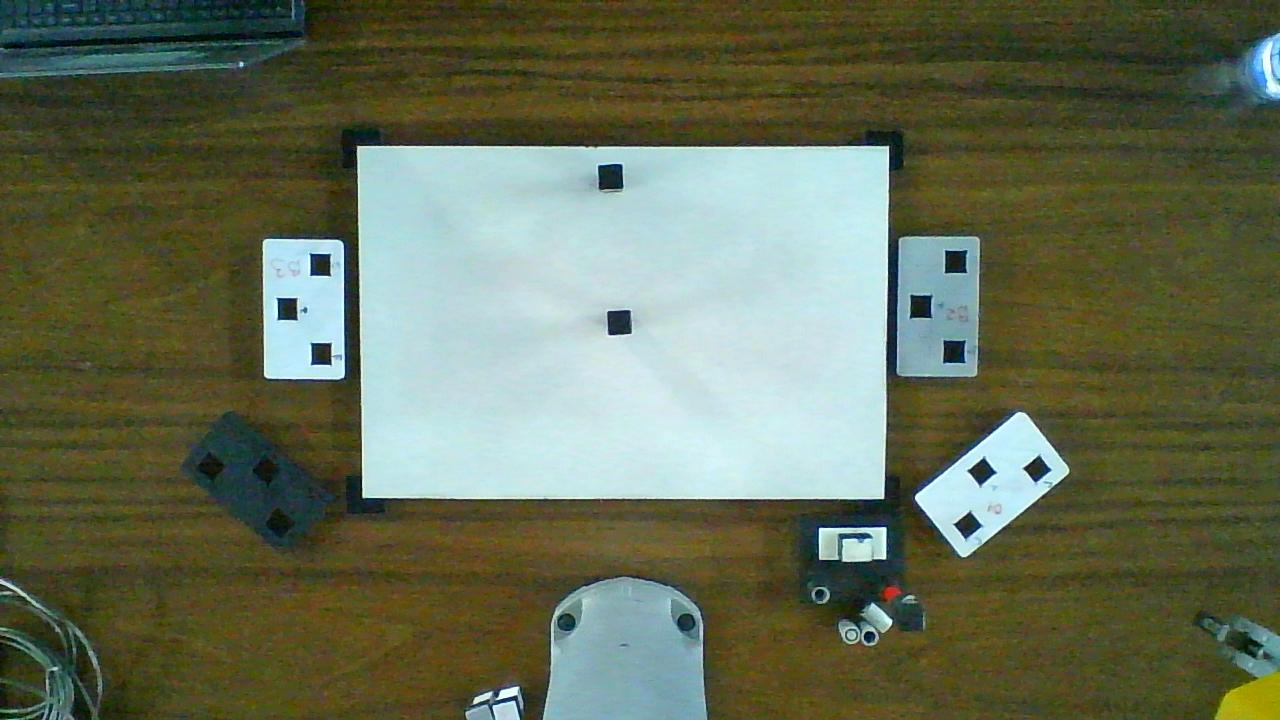peca_preta: (599, 166, 621, 188), (609, 312, 630, 334)
